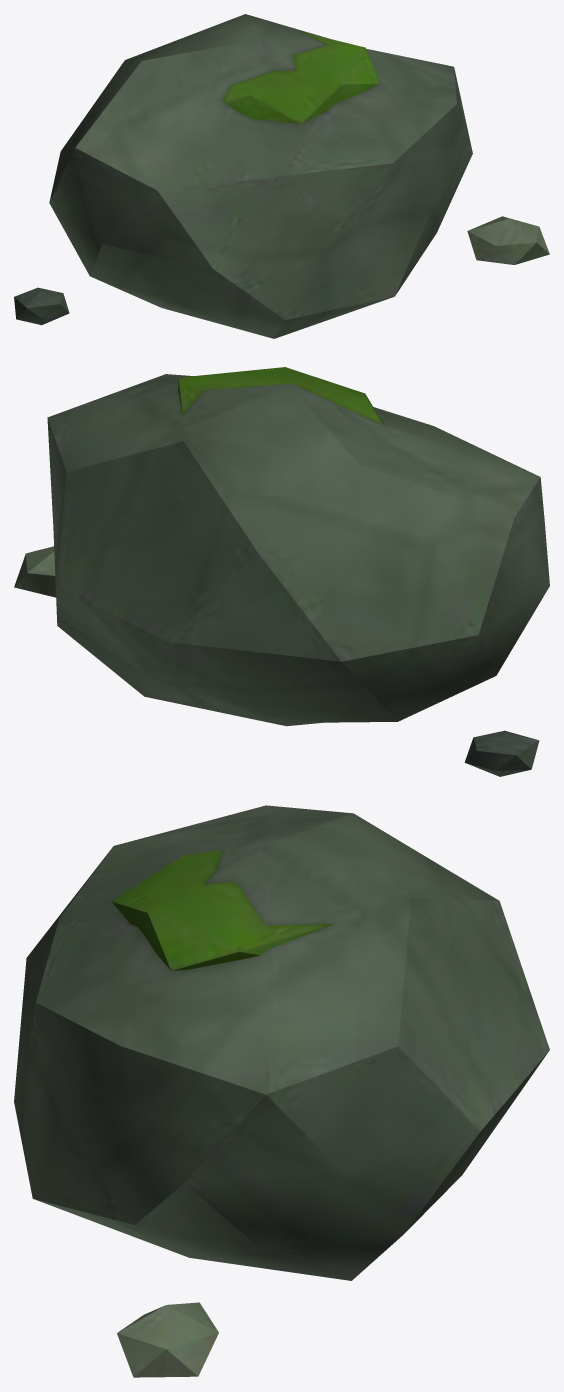
Rendered from bg_forest_rock_1_lod1.glb.
3 views of the same model, one above another, from view 1: azimuth 30°, elevation 25°; view 2: azimuth 150°, elevation 25°; view 3: azimuth 270°, elevation 25° (orthographic). The views are drawn at different scales.
Visible parts, largest first — view 1: body; view 2: body; view 3: body.
Part boxes in pixels (x1=…): body: x1=14, y1=14, x2=549, y2=338; body: x1=14, y1=367, x2=549, y2=776; body: x1=14, y1=805, x2=549, y2=1377.
Bounding box in the file's own units: 1.93 × 1.1 × 1.31.
1 material, 1 textured.
